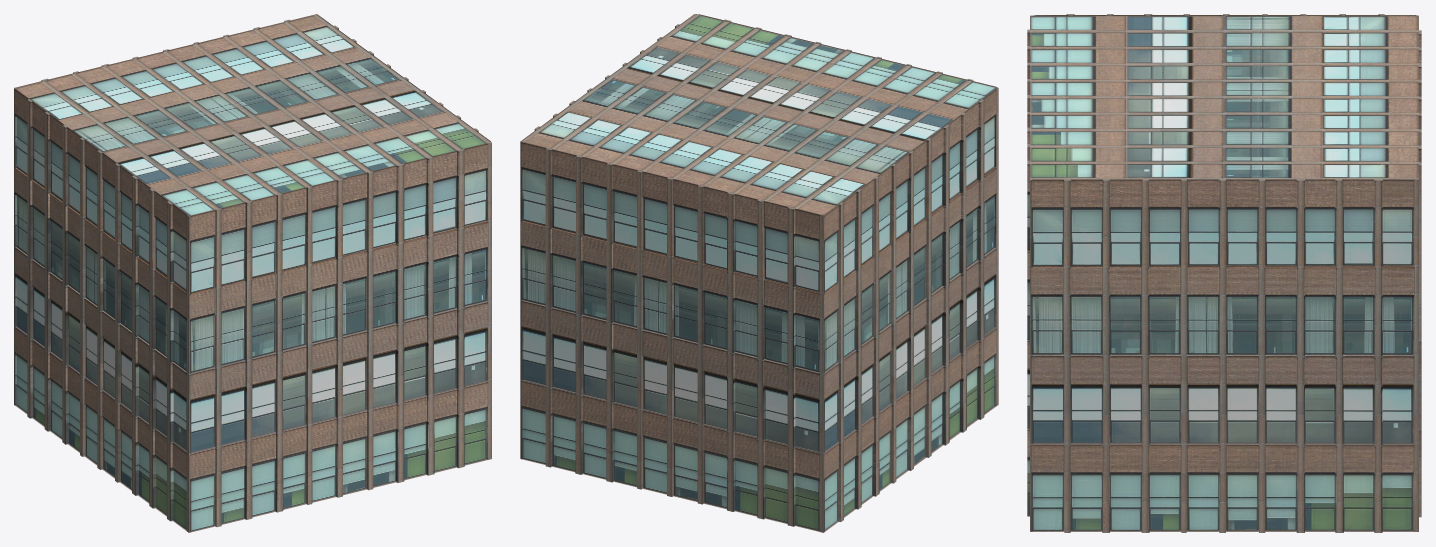
The model's file is building_cube.glb.
3 views of the same model, side by side, from view 1: azimuth 30°, elevation 25°; view 2: azimuth 150°, elevation 25°; view 3: azimuth 270°, elevation 25° (orthographic). The views are drawn at different scales.
Parts seen in each view (by area): view 1: Cube; view 2: Cube; view 3: Cube.
Part boxes in pixels (bbox=[...]): Cube: bbox=[14, 14, 491, 532]; Cube: bbox=[520, 14, 998, 532]; Cube: bbox=[1027, 14, 1421, 532].
Size of the model in its own units: 0.2027 by 0.2 by 0.2027.
Materials: 1 (1 with a texture image).
